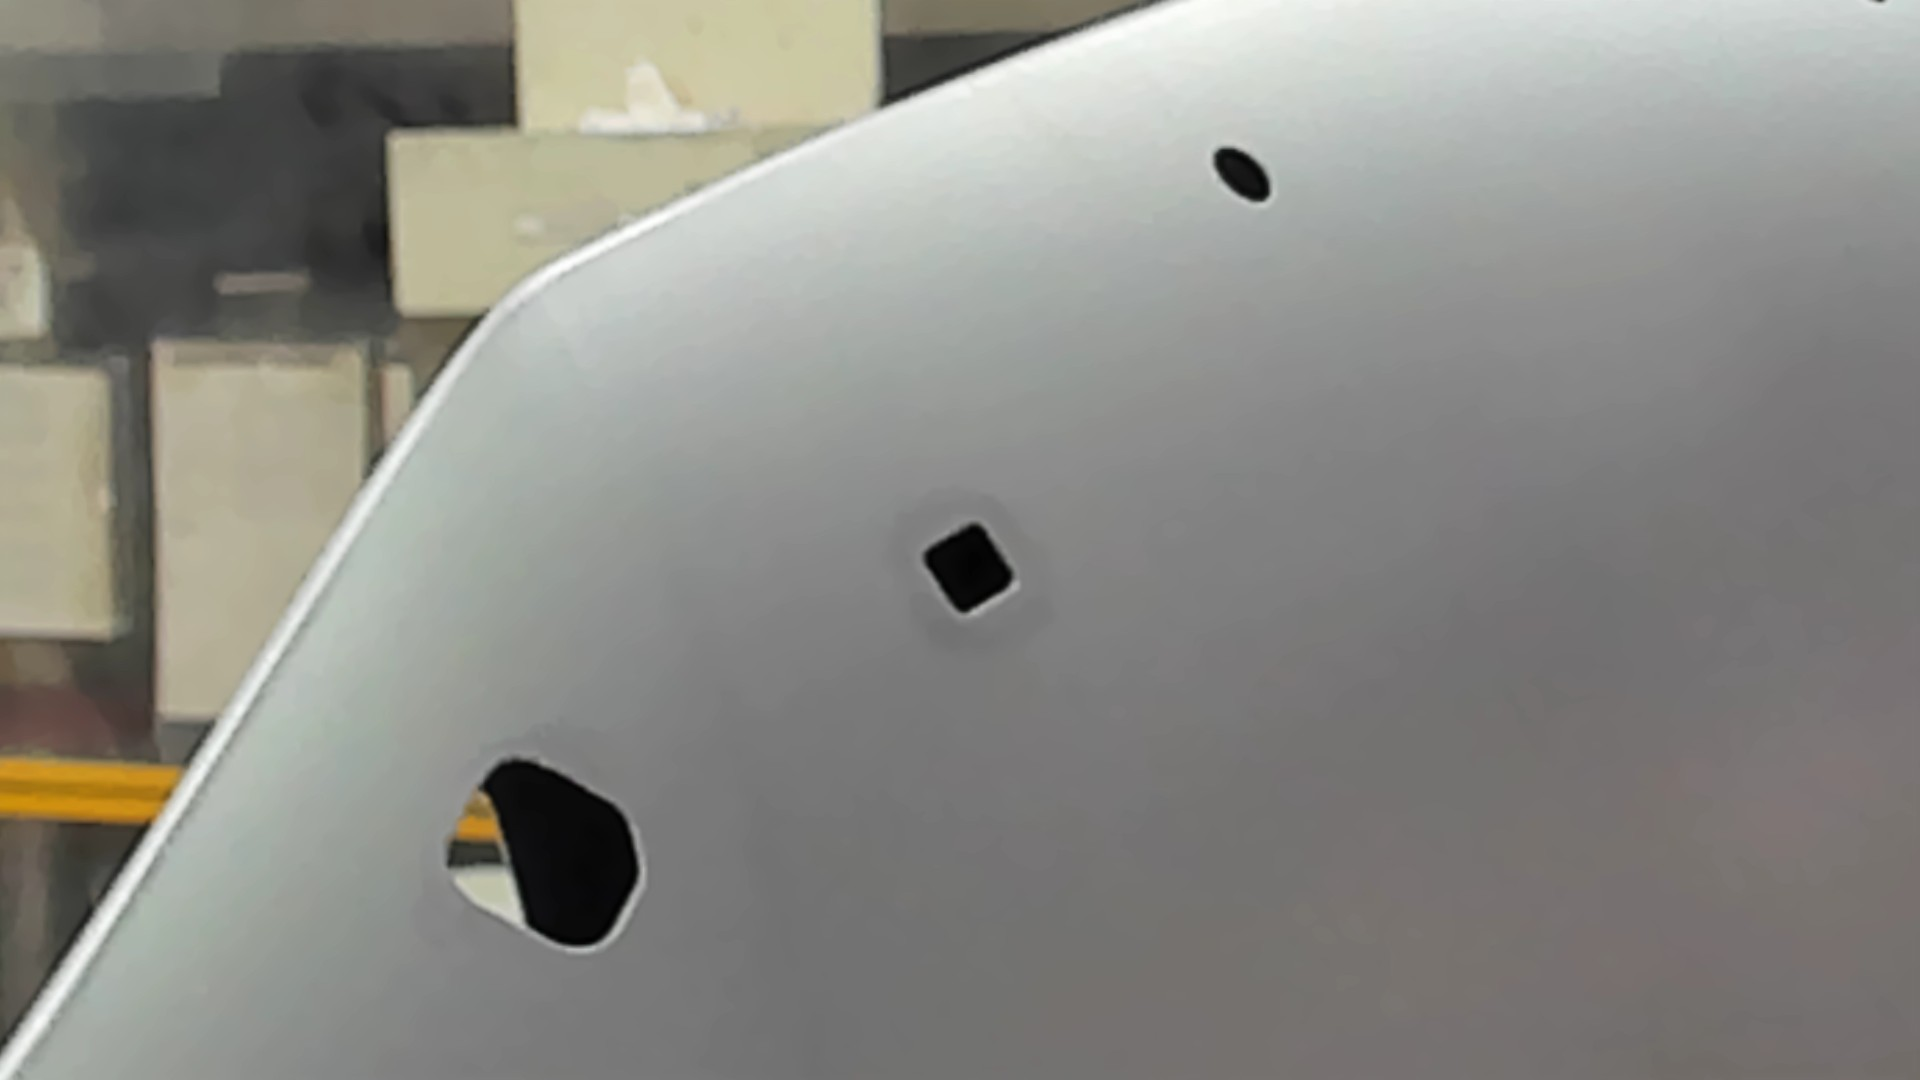chico: (1207, 140, 1274, 204)
grande: (438, 749, 647, 960)
mediano: (913, 517, 1021, 622)
